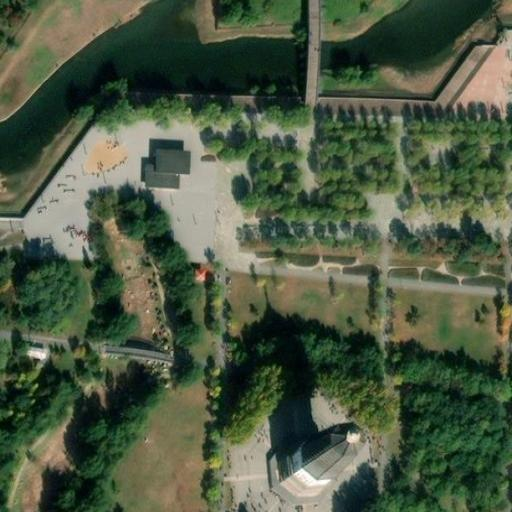building: (100, 335, 174, 363), (282, 445, 327, 490), (147, 153, 188, 189), (21, 339, 49, 360), (192, 261, 211, 279)
